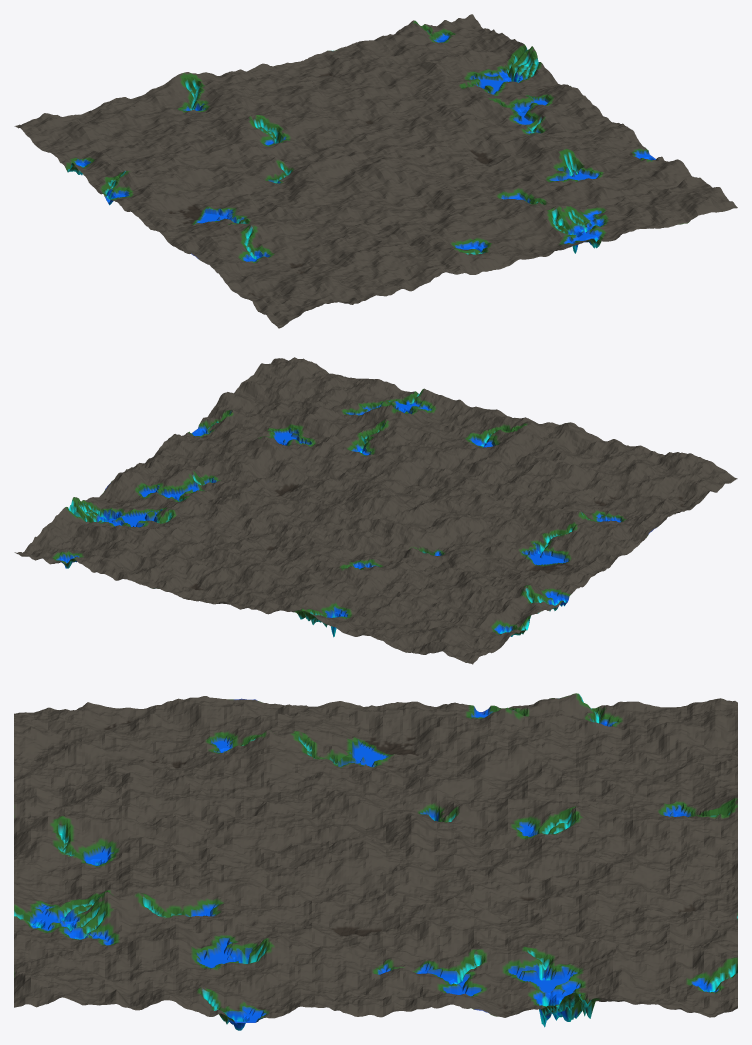
Rendered from terrain_FORREST.obj.
3 renders of one model, top to bottom at view 1: azimuth 30°, elevation 25°; view 2: azimuth 150°, elevation 25°; view 3: azimuth 270°, elevation 25°, orthographic. The views are drawn at different scales.
Visible parts, largest first — view 1: FORREST; view 2: FORREST; view 3: FORREST.
Part boxes in pixels (x1,y1,x2,y2): FORREST: (14,14,737,328); FORREST: (14,357,737,664); FORREST: (14,693,737,1030).
Size of the model in its own units: 255 by 23.66 by 255.
Materials: 1 (1 with a texture image).
